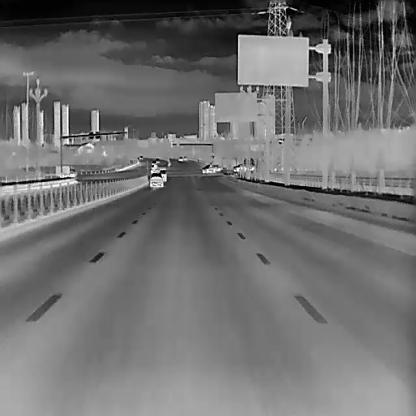car: (55, 164, 76, 177), (148, 171, 163, 187), (201, 163, 221, 172), (232, 163, 248, 172), (159, 167, 167, 181), (177, 155, 183, 161), (182, 155, 187, 160), (155, 158, 159, 163), (151, 159, 155, 164), (138, 155, 143, 159)
